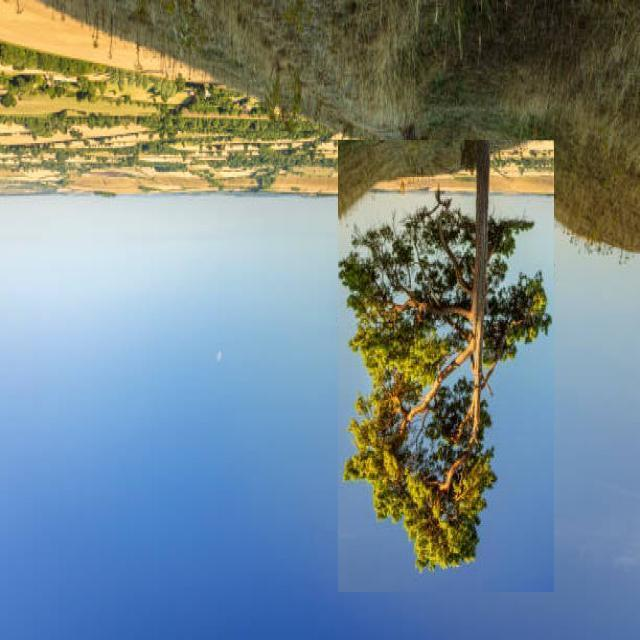tree: (338, 140, 554, 592)
